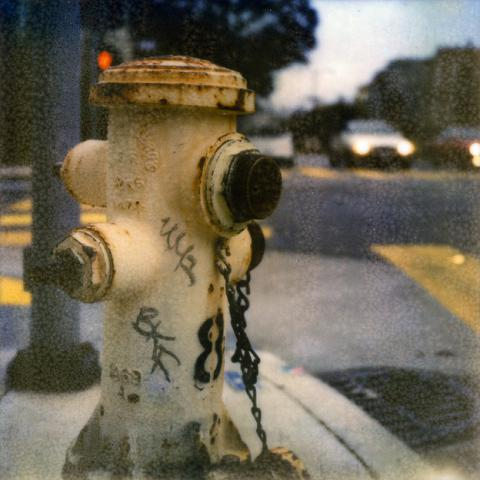car: (328, 118, 416, 166), (425, 125, 479, 172)
